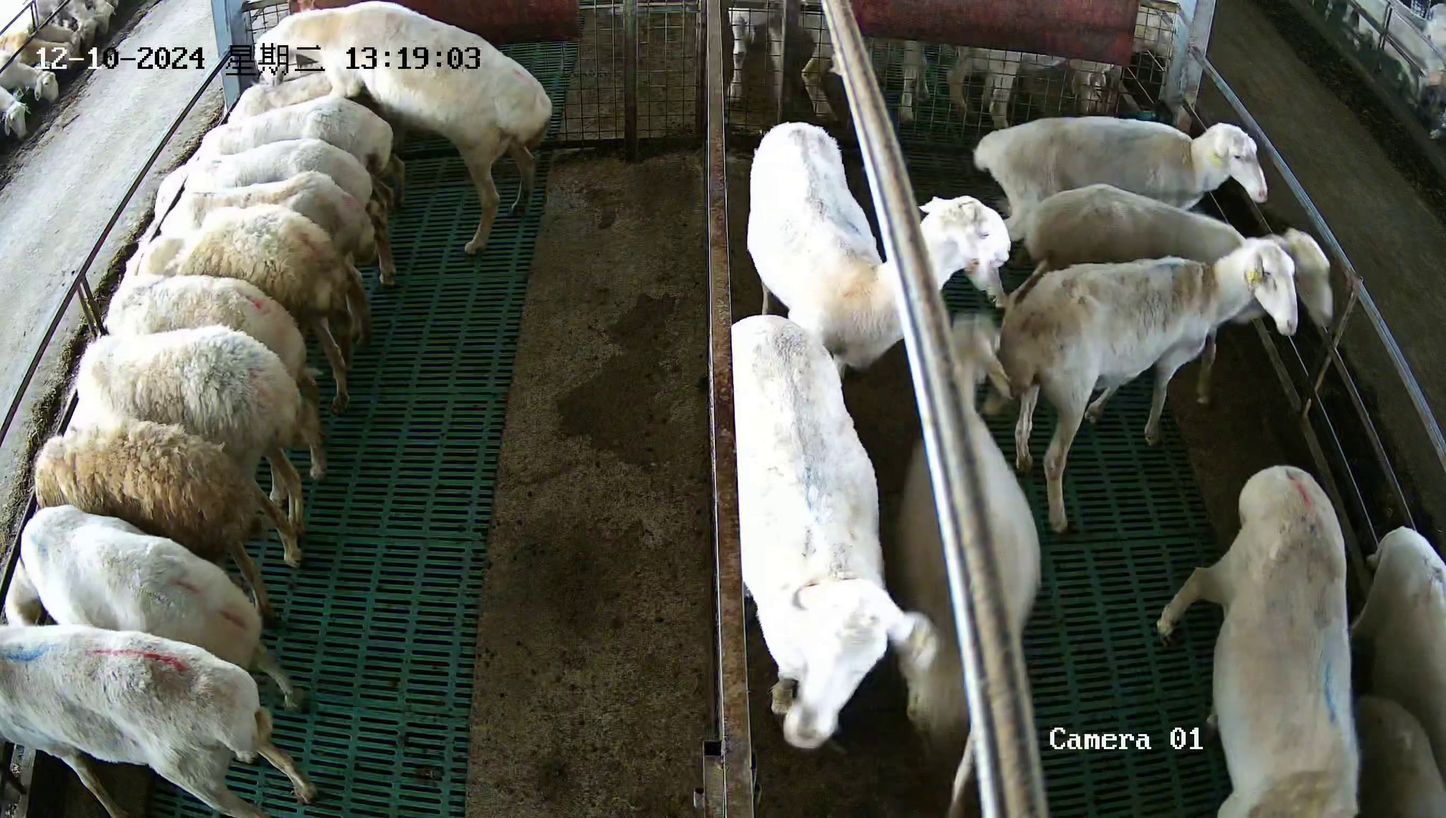Nmounting: (250, 1, 557, 257)
